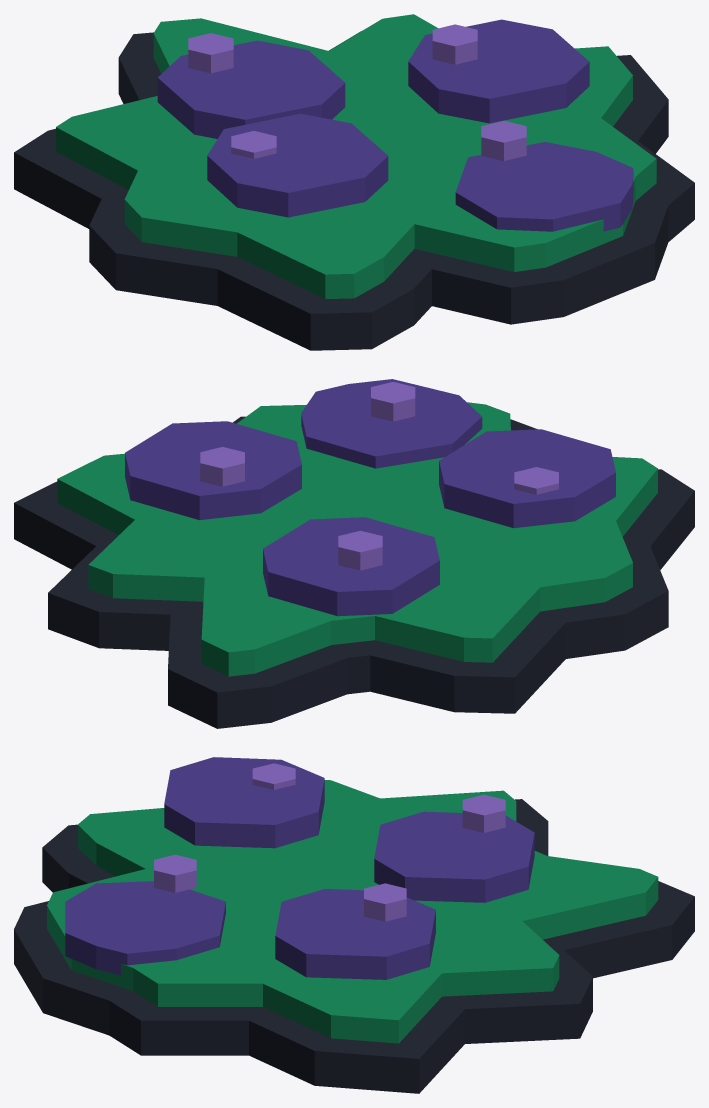
Rendered from berry.fbx.
The picture shows the model from 3 angles, top to bottom: view 1: azimuth 30°, elevation 25°; view 2: azimuth 150°, elevation 25°; view 3: azimuth 270°, elevation 25°; orthographic projection. The views are drawn at different scales.
Parts seen in each view (by area): view 1: berry; view 2: berry; view 3: berry.
Part boxes in pixels (x1,y1,x2,y2): berry: (14,14,694,350); berry: (14,379,694,728); berry: (14,757,694,1093).
Bounding box in the file's own units: 1 × 0.19 × 1.06.
Materials: 1 (1 with a texture image).
